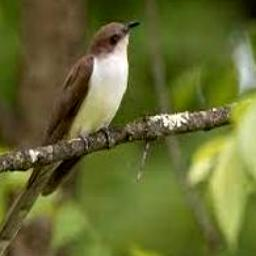Cuckoo: (0, 20, 142, 256)
